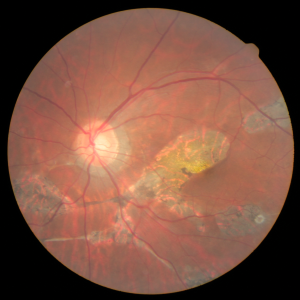retina_disease: (42, 98, 237, 211)
